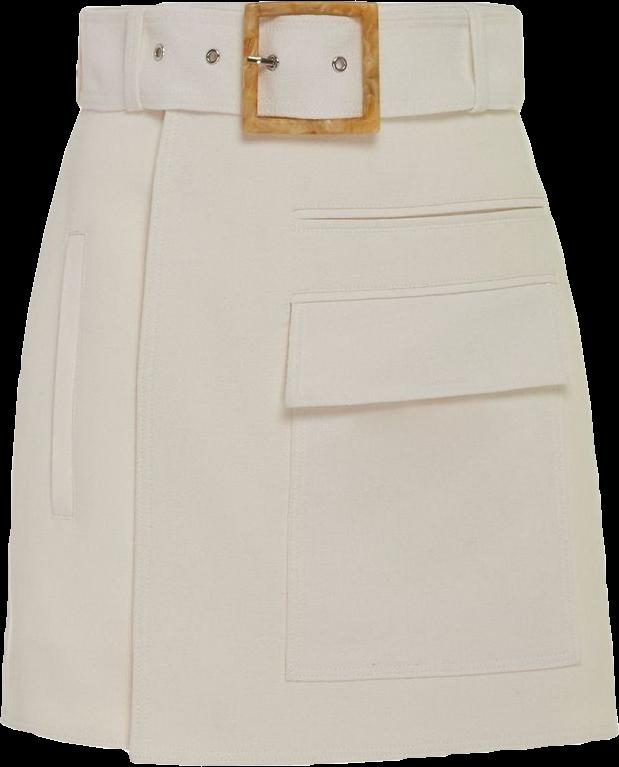Hemline: (122, 114, 618, 766), (0, 717, 618, 766)
Waistline: (75, 101, 524, 126), (80, 0, 521, 13)
